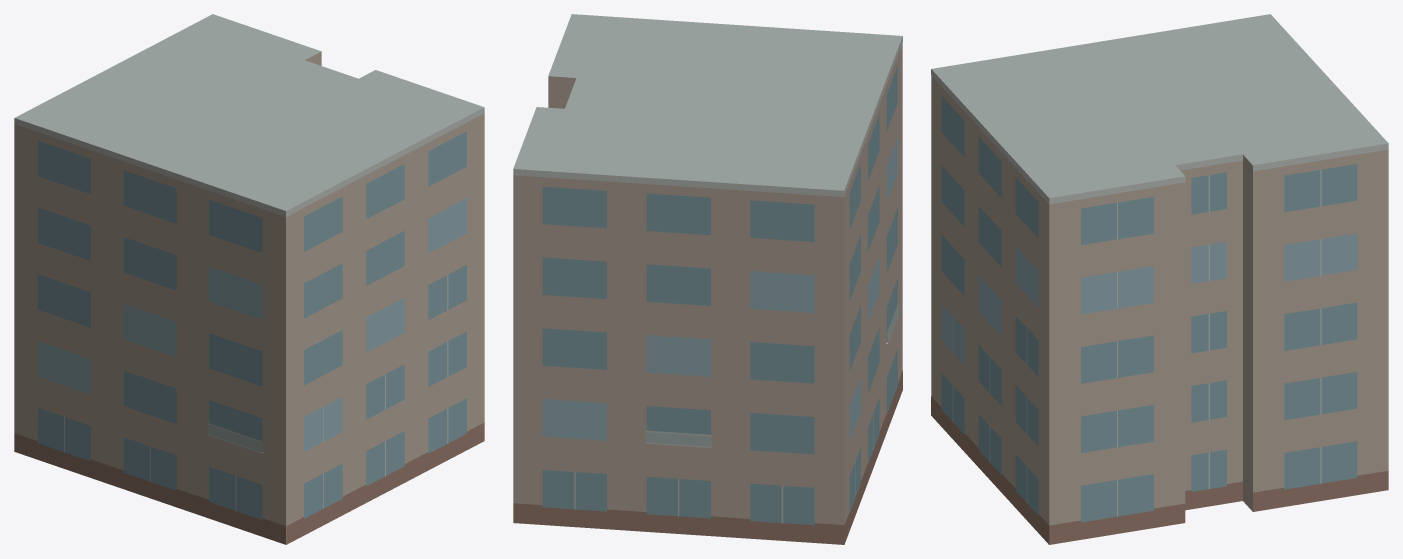
File: survey-upis-32862773.glb
The picture shows the model from 3 angles, left to right: view 1: azimuth 30°, elevation 25°; view 2: azimuth 150°, elevation 25°; view 3: azimuth 270°, elevation 25°; orthographic projection. The views are drawn at different scales.
Visible parts, largest first — view 1: survey-upis-32862773.tmp; view 2: survey-upis-32862773.tmp; view 3: survey-upis-32862773.tmp.
Part boxes in pixels (x1=…): survey-upis-32862773.tmp: x1=14, y1=14, x2=484, y2=544; survey-upis-32862773.tmp: x1=513, y1=14, x2=902, y2=544; survey-upis-32862773.tmp: x1=931, y1=14, x2=1388, y2=544.
Size of the model in its own units: 15.63 by 13.7 by 16.4.
